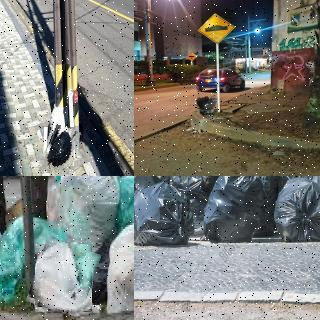Garbage: (0, 219, 66, 306), (30, 241, 97, 315), (57, 176, 118, 256), (201, 176, 267, 243), (134, 182, 197, 247), (274, 176, 320, 244), (166, 176, 221, 227), (106, 220, 134, 312), (41, 125, 78, 175), (116, 176, 134, 251), (0, 214, 10, 299), (196, 93, 218, 110)
